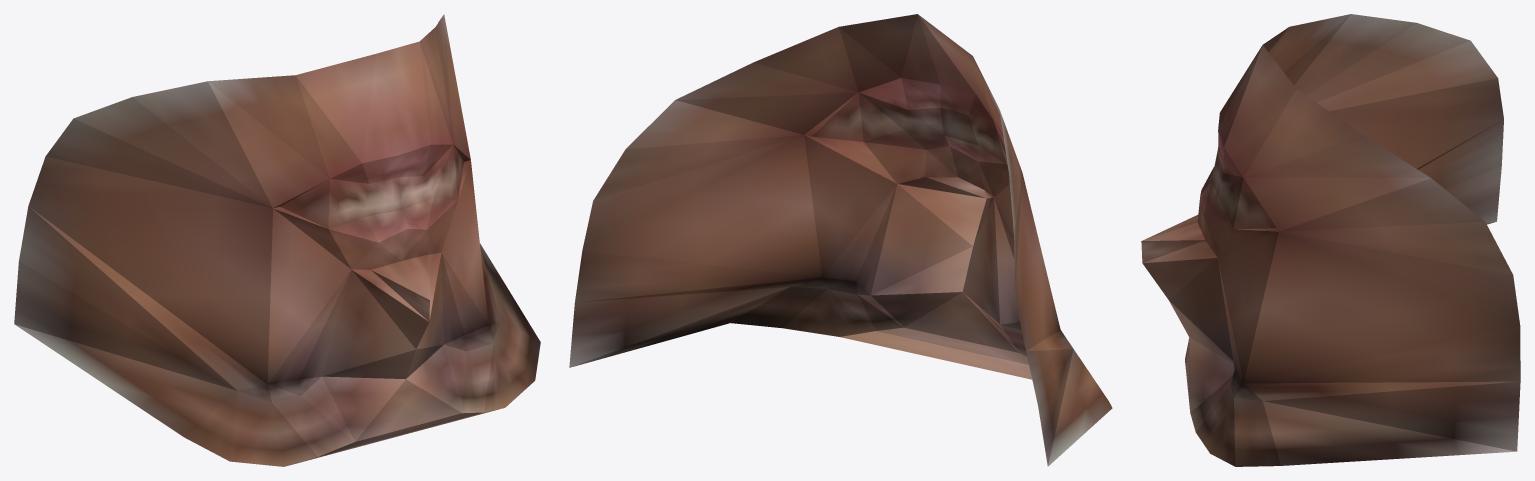
File: fake_7740.obj
The picture shows the model from 3 angles, left to right: view 1: azimuth 30°, elevation 25°; view 2: azimuth 150°, elevation 25°; view 3: azimuth 270°, elevation 25°; orthographic projection. The views are drawn at different scales.
Size of the model in its own units: 129 by 97 by 92.88.
